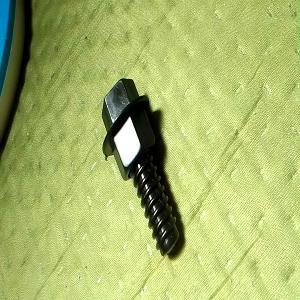parafuso: (101, 77, 180, 256)
